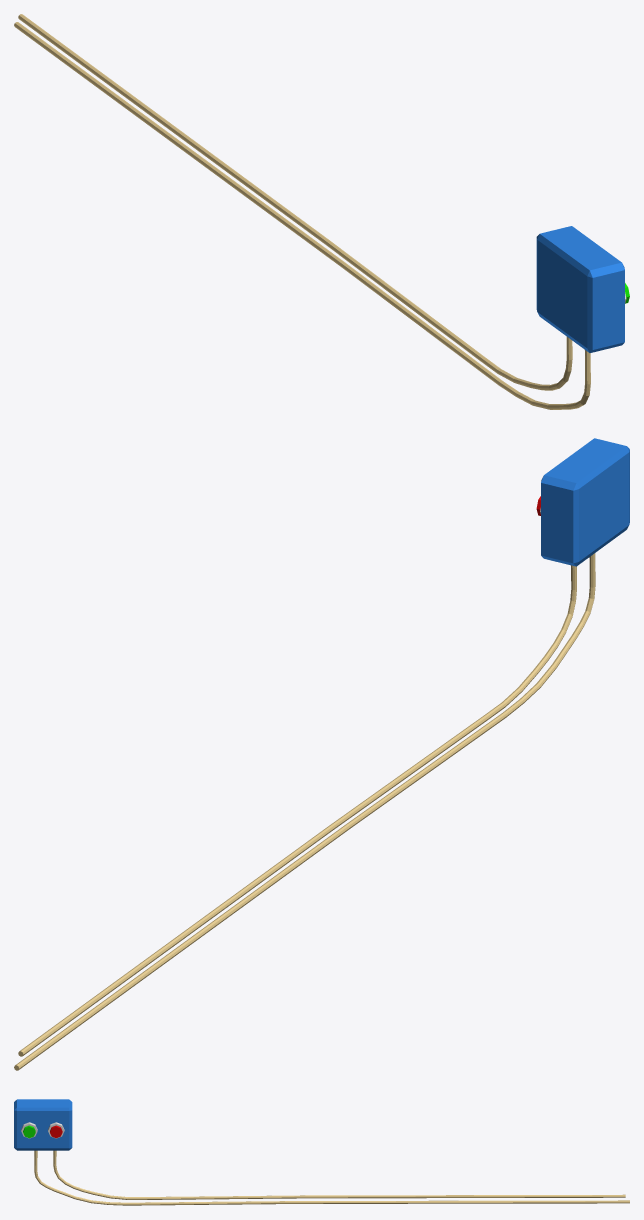
The model's file is SwichBox.fbx.
3 views of the same model, one above another, from view 1: azimuth 30°, elevation 25°; view 2: azimuth 150°, elevation 25°; view 3: azimuth 270°, elevation 25° (orthographic). The views are drawn at different scales.
Visible parts, largest first — view 1: SwitchBox; view 2: SwitchBox; view 3: SwitchBox, ON.
Part boxes in pixels (bbox=[...]): SwitchBox: bbox=[14, 14, 624, 409]; SwitchBox: bbox=[14, 438, 629, 1070]; SwitchBox: bbox=[14, 1099, 629, 1205]; ON: bbox=[21, 1122, 37, 1138].
Size of the model in its own units: 151 by 587 by 3209.
